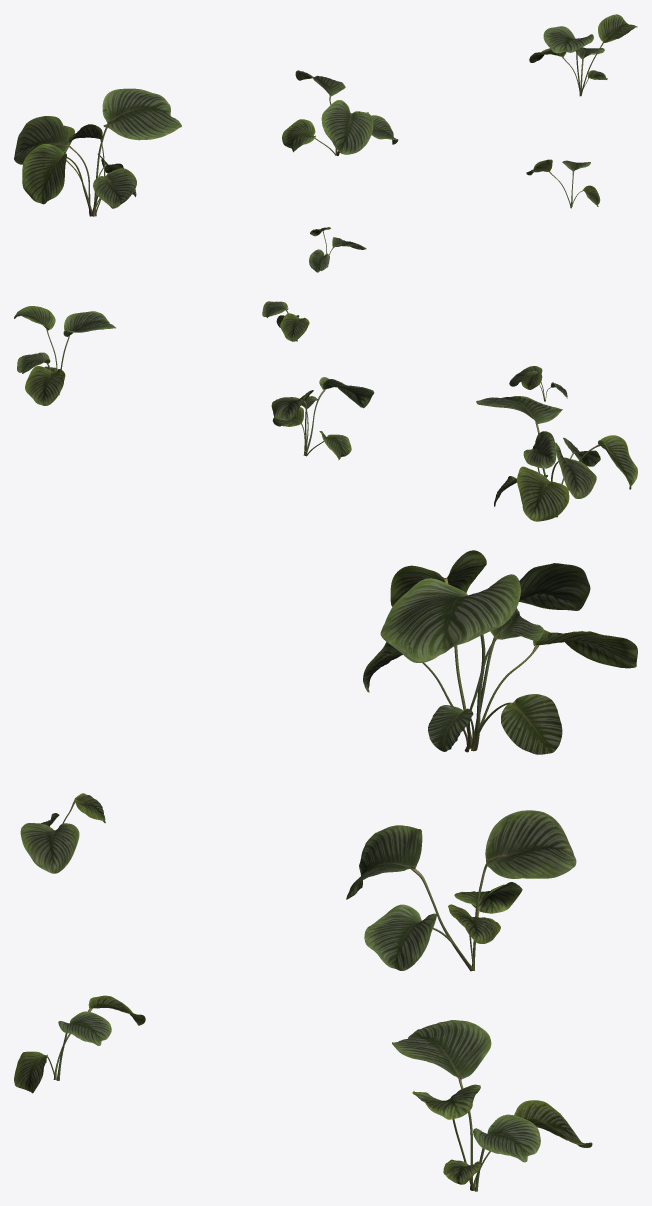
File: calathea_orbifolia_01_1k.glb
The picture shows the model from 3 angles, top to bottom: view 1: azimuth 30°, elevation 25°; view 2: azimuth 150°, elevation 25°; view 3: azimuth 270°, elevation 25°; orthographic projection. The views are drawn at different scales.
Bounding box in the file's own units: 2.49 × 0.4243 × 1.19.
1 material, 1 textured.
